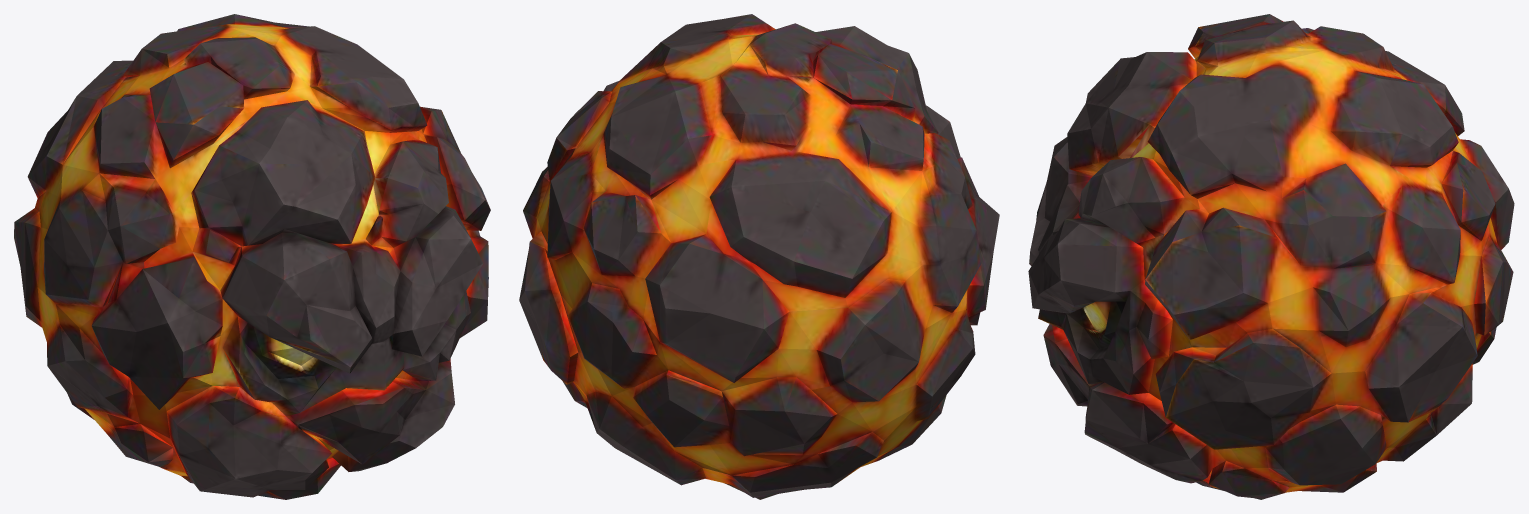
File: m_boule_magma.glb
The picture shows the model from 3 angles, left to right: view 1: azimuth 30°, elevation 25°; view 2: azimuth 150°, elevation 25°; view 3: azimuth 270°, elevation 25°; orthographic projection.
Visible parts, largest first — view 1: monstre; view 2: monstre; view 3: monstre.
Boxes of the visible parts, x1,y1,x2,y2 form: monstre: (14, 14, 490, 499); monstre: (519, 14, 999, 499); monstre: (1028, 14, 1514, 499).
Bounding box in the file's own units: 0.9548 × 1 × 0.9824.
1 material, 1 textured.
